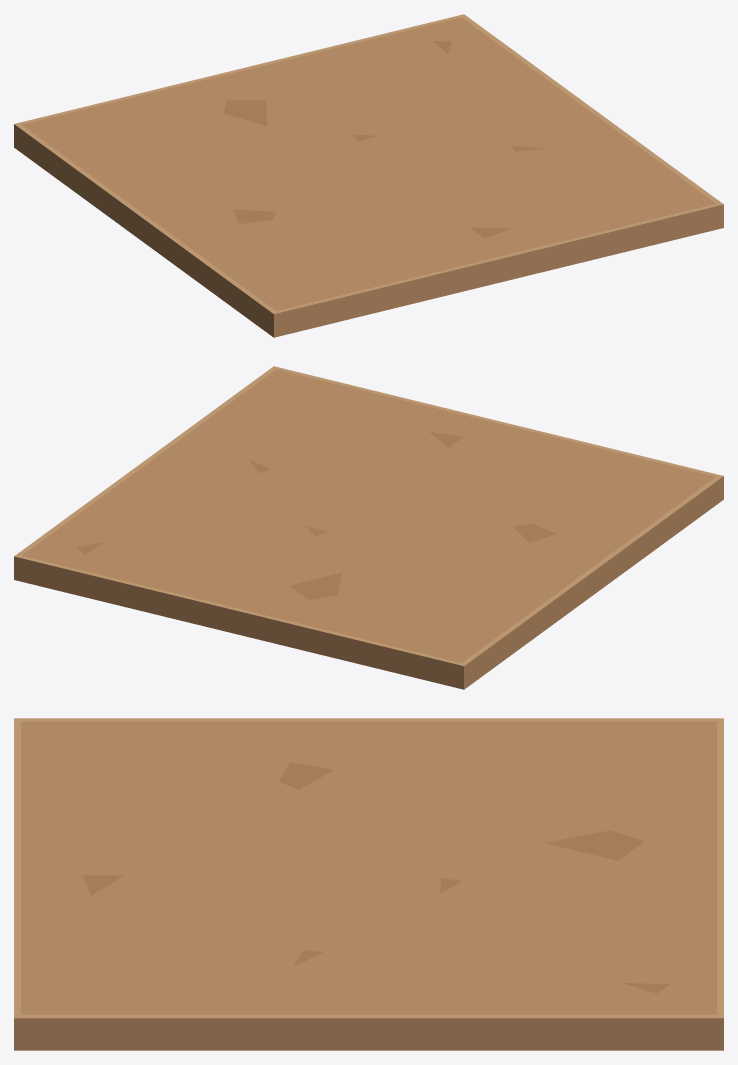
Rendered from ConcrateSlabs_E_1_2.obj.
The picture shows the model from 3 angles, top to bottom: view 1: azimuth 30°, elevation 25°; view 2: azimuth 150°, elevation 25°; view 3: azimuth 270°, elevation 25°; orthographic projection. The views are drawn at different scales.
Visible parts, largest first — view 1: ConcrateSlabs_E_1_2; view 2: ConcrateSlabs_E_1_2; view 3: ConcrateSlabs_E_1_2.
Boxes of the visible parts, box(x1,y1,x2,y2) form: ConcrateSlabs_E_1_2: box(14, 14, 723, 337); ConcrateSlabs_E_1_2: box(14, 366, 723, 689); ConcrateSlabs_E_1_2: box(14, 718, 723, 1050).
Size of the model in its own units: 8 by 0.4 by 8.
